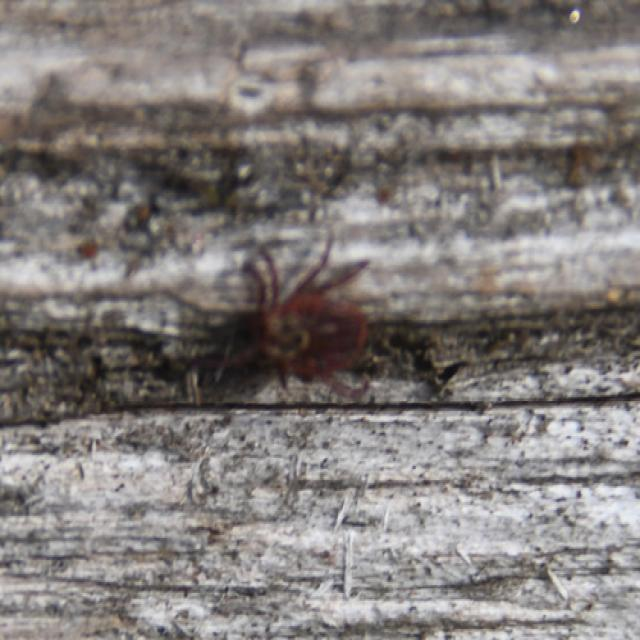Dermacentor Reticulatus-F: (223, 240, 370, 397)
